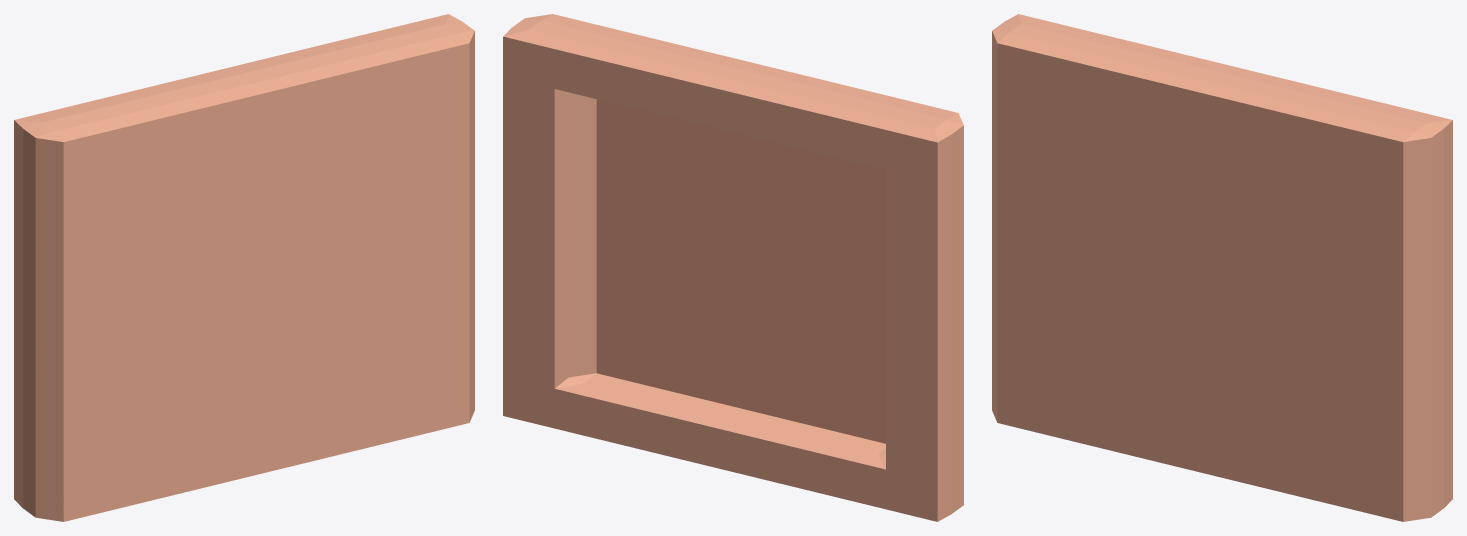
The model's file is Picture_3_001.glb.
3 renders of one model, left to right at view 1: azimuth 30°, elevation 25°; view 2: azimuth 150°, elevation 25°; view 3: azimuth 330°, elevation 25°, orthographic.
Parts seen in each view (by area): view 1: Picture_3_001; view 2: Picture_3_001; view 3: Picture_3_001.
Boxes of the visible parts, x1,y1,x2,y2 form: Picture_3_001: [14, 14, 474, 521]; Picture_3_001: [503, 14, 963, 521]; Picture_3_001: [992, 14, 1452, 521].
Bounding box in the file's own units: 0.84 × 0.7001 × 0.1171.
